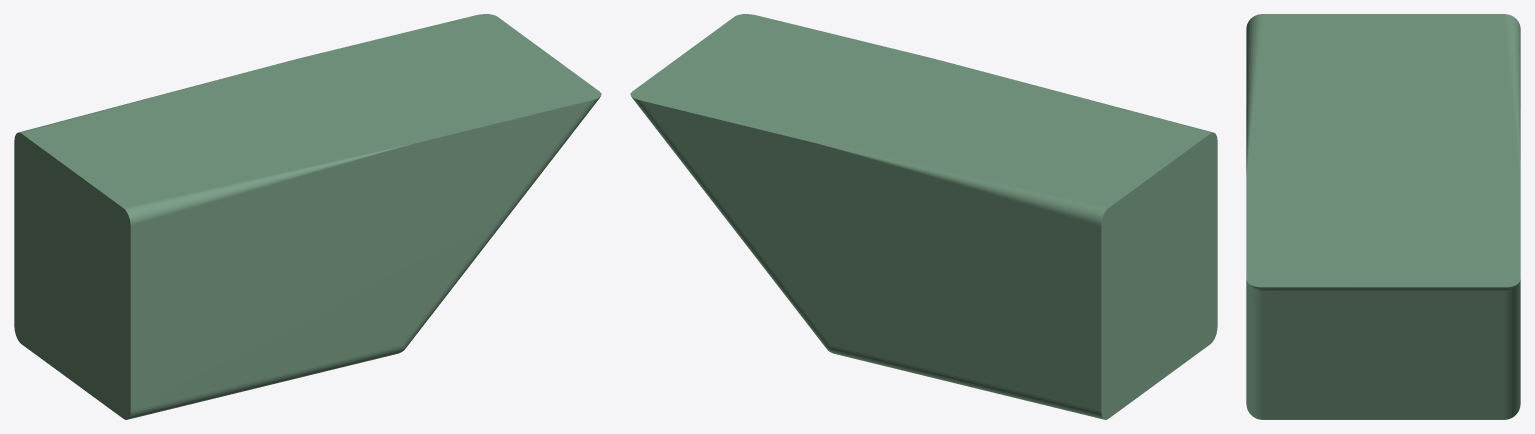
The picture shows the model from 3 angles, left to right: view 1: azimuth 30°, elevation 25°; view 2: azimuth 150°, elevation 25°; view 3: azimuth 270°, elevation 25°; orthographic projection. The views are drawn at different scales.
Bounding box in the file's own units: 0.0901 × 0.0382 × 0.0381.
